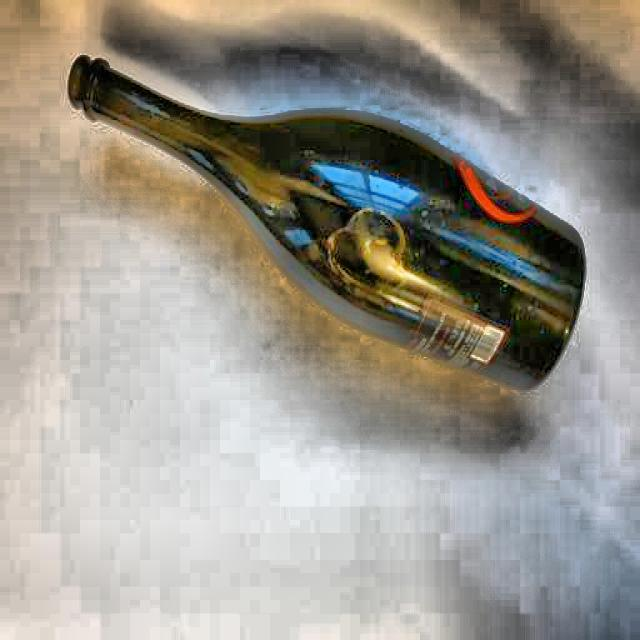glass: (65, 51, 583, 402)
